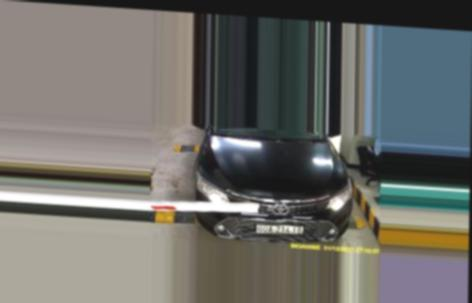License_Plate: (256, 221, 304, 236)
